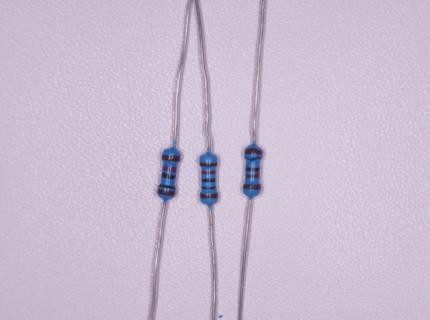Black band: (159, 184, 175, 190), (161, 173, 175, 179), (246, 166, 260, 172), (202, 178, 216, 182), (202, 186, 216, 190), (246, 157, 260, 161)
Brown band: (161, 154, 180, 162), (157, 189, 175, 196), (245, 149, 263, 155), (243, 184, 261, 190), (200, 194, 218, 199), (200, 163, 217, 167)
Red band: (162, 165, 177, 173), (245, 174, 260, 179), (202, 170, 216, 174)
